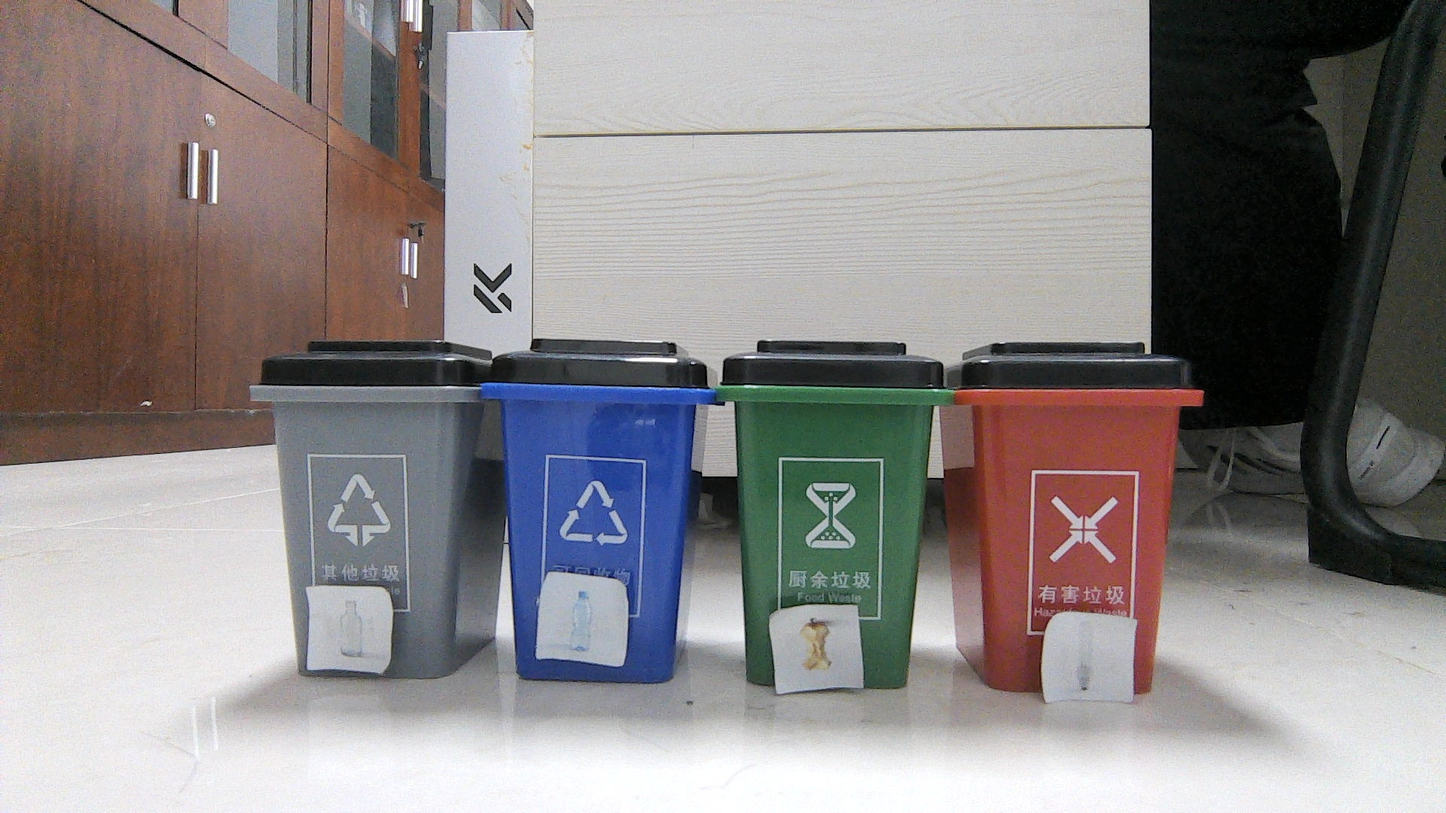food_trash: (779, 608, 854, 684)
hazardous_trash: (1050, 617, 1130, 698)
recyclable_trash: (312, 589, 386, 666), (547, 579, 618, 657)
